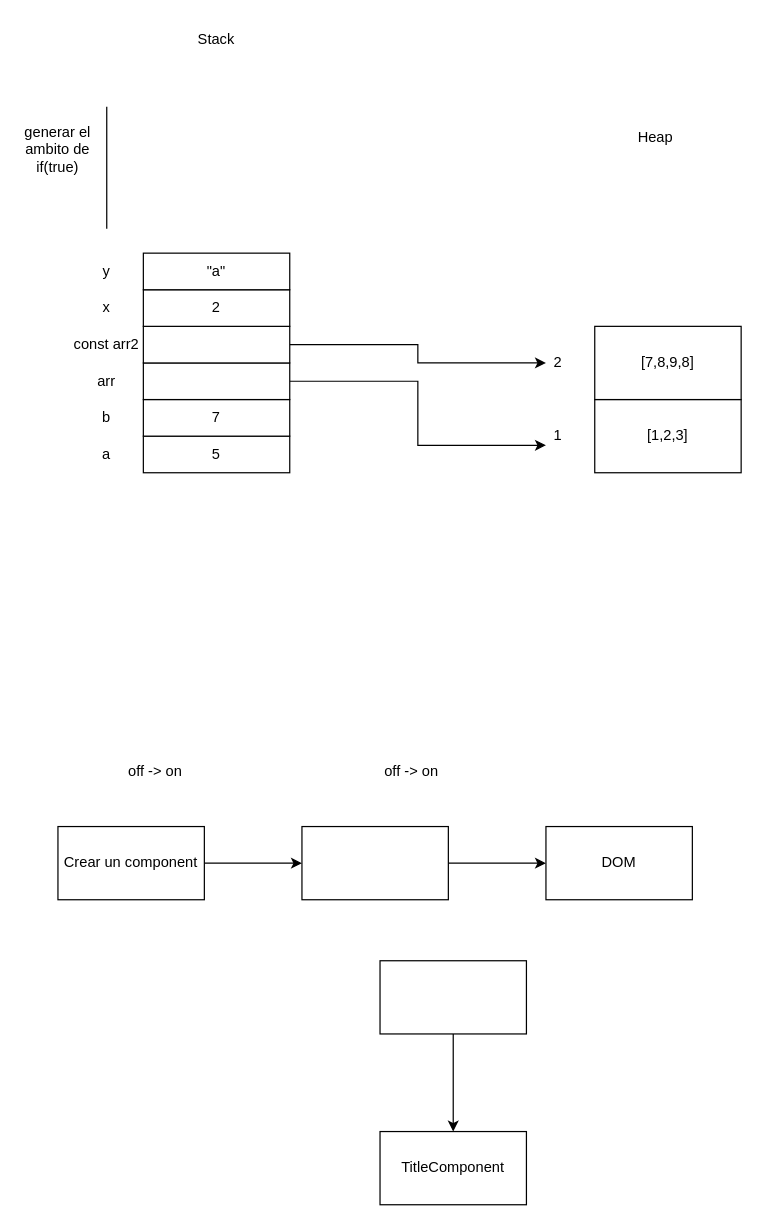
The diagram is 763 pixels wide and 1226 high, and some of its shapes have lost their labels. The centre of each missing label's shape, as x and y in pixels:
App: (x=452, y=997)
Dibujarlo en el shadow dom: (x=374, y=862)
p1: (x=216, y=381)
p2: (x=216, y=344)
